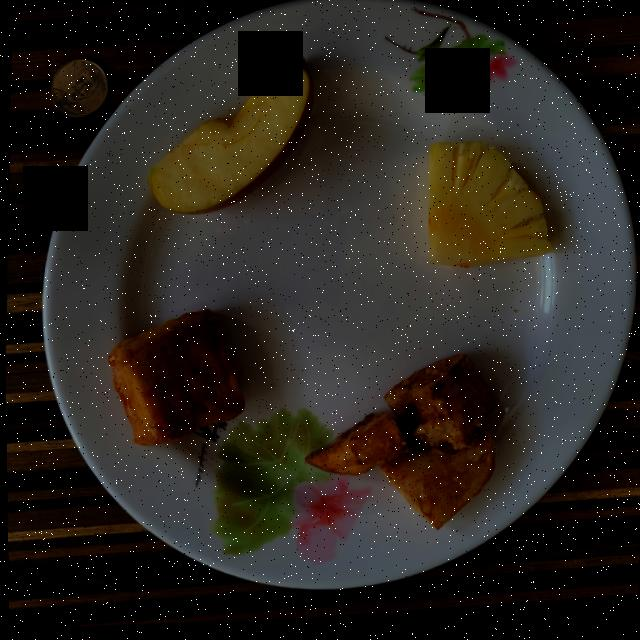apple -sliced-: (146, 61, 312, 216)
coin: (49, 60, 107, 118)
creamy tofu: (106, 312, 241, 447)
fried potato: (303, 361, 494, 534)
pineapple: (426, 149, 550, 274)
